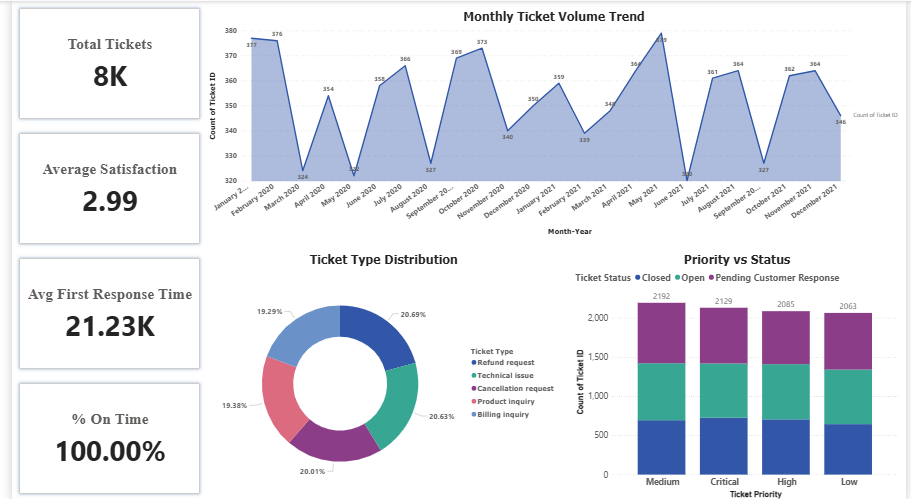

Layout of this report page (visuals, bound fields, positions):
{"tool":"powerbi","page":{"name":"Page 1","canvas":[1929,1080],"ordinal":0},"visuals":[{"type":"cardVisual","fields":{"Data":["customersupport.Total Tickets","customersupport.Average Satisfaction","customersupport.Avg First Response Time (Hours)","customersupport.% On Time"]},"box":[0,0,421.5,1080],"z":0},{"type":"lineChart","title":"Monthly Ticket Volume Trend","fields":{"Y":["CountNonNull(customersupport.Ticket ID)"],"Category":["customersupport.Month-Year"]},"box":[421.5,15.4,1499.3,496.1],"z":1000},{"type":"donutChart","title":"Ticket Type Distribution","fields":{"Category":["customersupport.Ticket Type"],"Y":["CountNonNull(customersupport.Ticket ID)"]},"box":[421.5,540,763.9,540],"z":2000},{"type":"columnChart","title":"Priority vs Status","fields":{"Category":["customersupport.Ticket Priority"],"Y":["CountNonNull(customersupport.Ticket ID)"],"Series":["customersupport.Ticket Status"]},"box":[1211.7,540,709,540],"z":4000}]}

Visuals, with their boxes in screenshot pixels (x1, y1, x2, y2), scaled from the page's 1929x1080 canvas onto the 911x499 screenshot:
cardVisual - customersupport.Total Tickets x customersupport.Average Satisfaction: [x1=0, y1=0, x2=199, y2=498]
"Monthly Ticket Volume Trend" lineChart: [x1=199, y1=7, x2=907, y2=236]
"Ticket Type Distribution" donutChart: [x1=199, y1=250, x2=560, y2=498]
"Priority vs Status" columnChart: [x1=572, y1=250, x2=907, y2=498]
